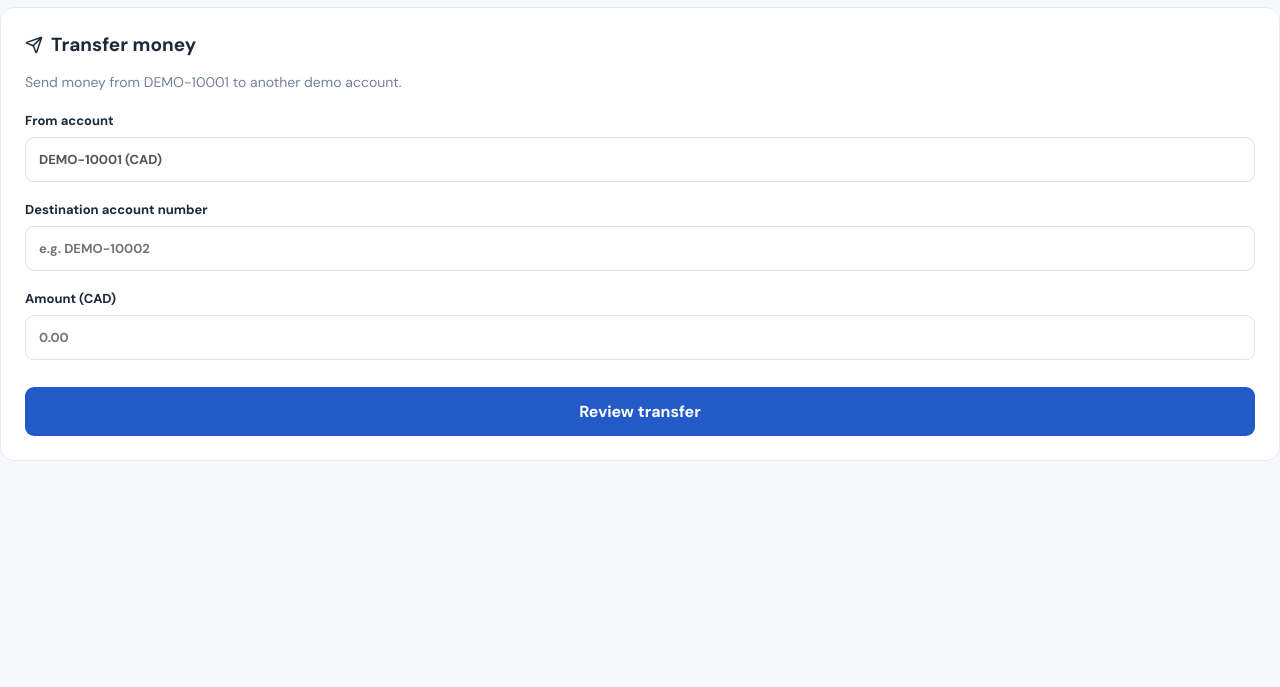
Test: TransferForm › retries a failed transfer with the same request key, so it cannot pay twice
Step 1. Type "DEMO-10002" into the field labelled "Destination account number" → (640, 249), box [25,226,1255,271]
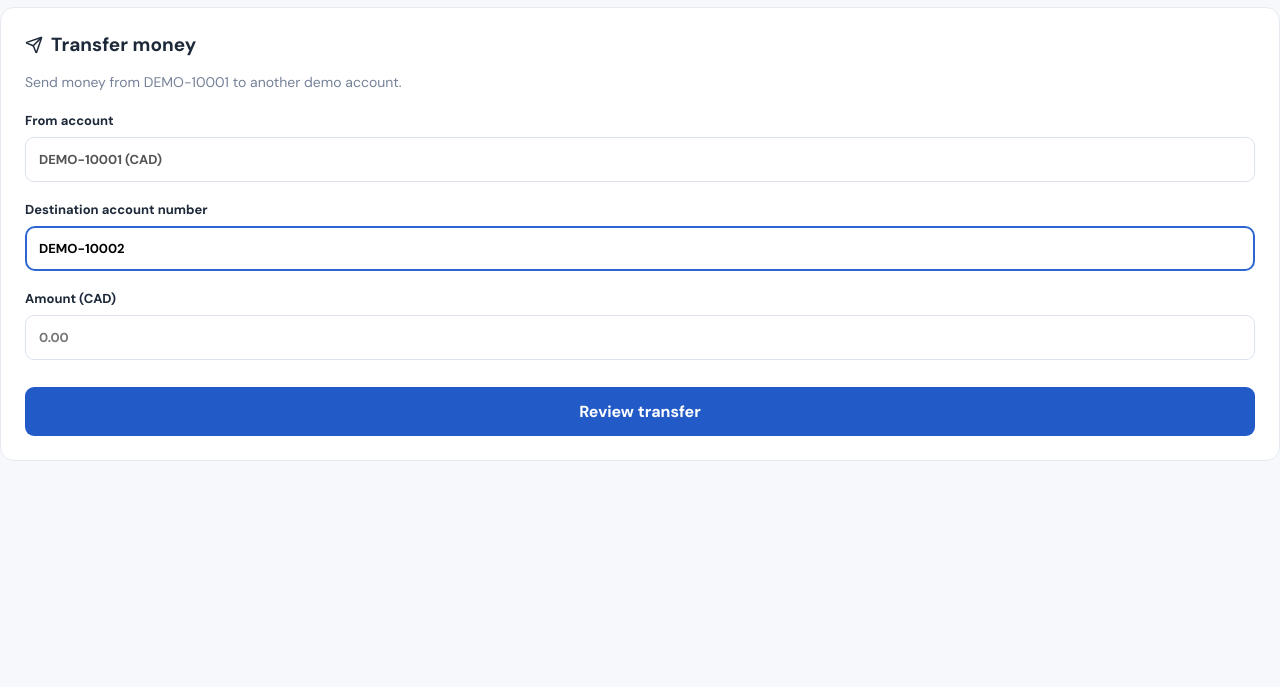
Step 2. Type "25" into the number field labelled "Amount (CAD)" → (640, 338), box [25,315,1255,360]
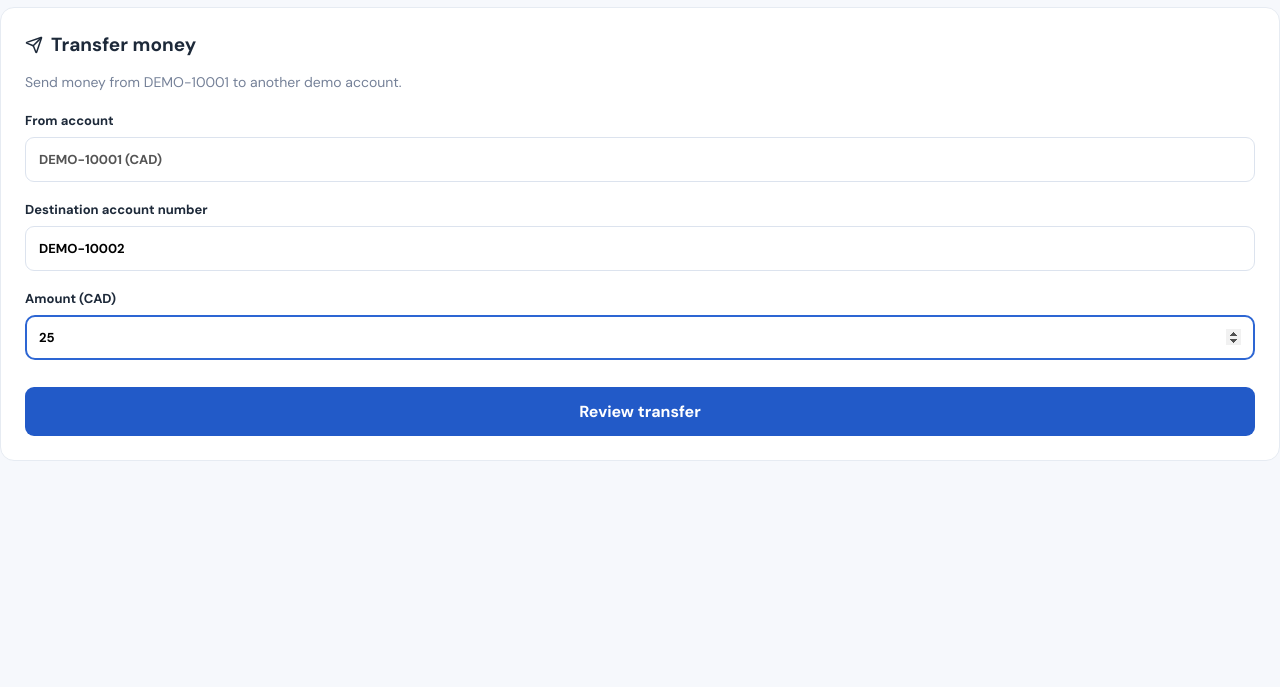
Step 3. Click the button "Review transfer" → (640, 412), box [25,387,1255,436]
(page scrolled)
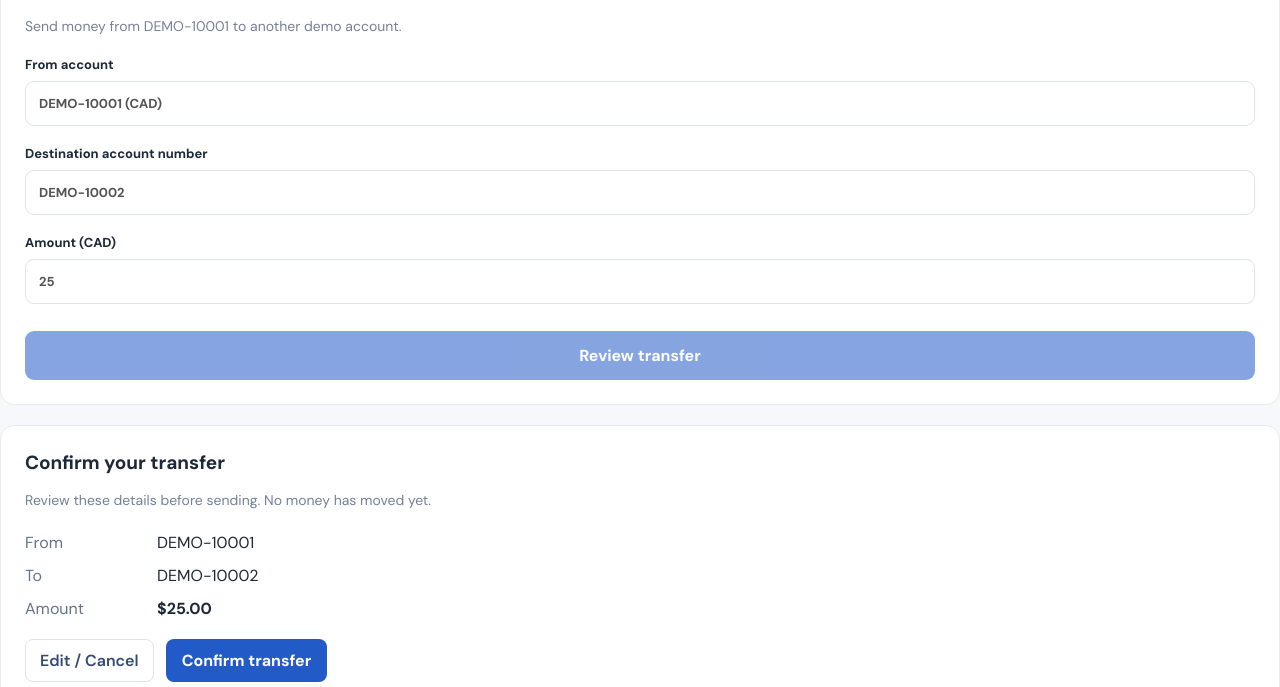
Step 4. Click the button "Confirm transfer" → (246, 660), box [166,639,327,682]
(page scrolled)
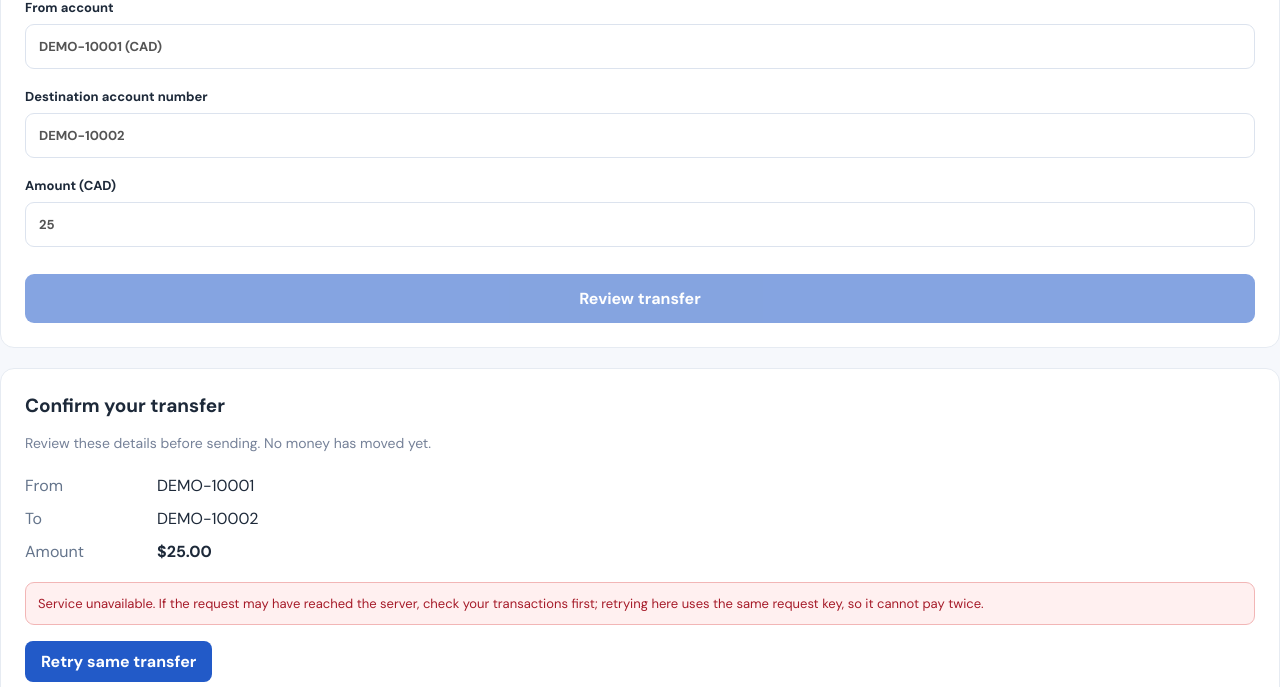
Expected: the text "Service unavailable" is shown, [38,595,984,612]
Step 5. Click the button "Retry same transfer" → (119, 661), box [25,641,212,682]
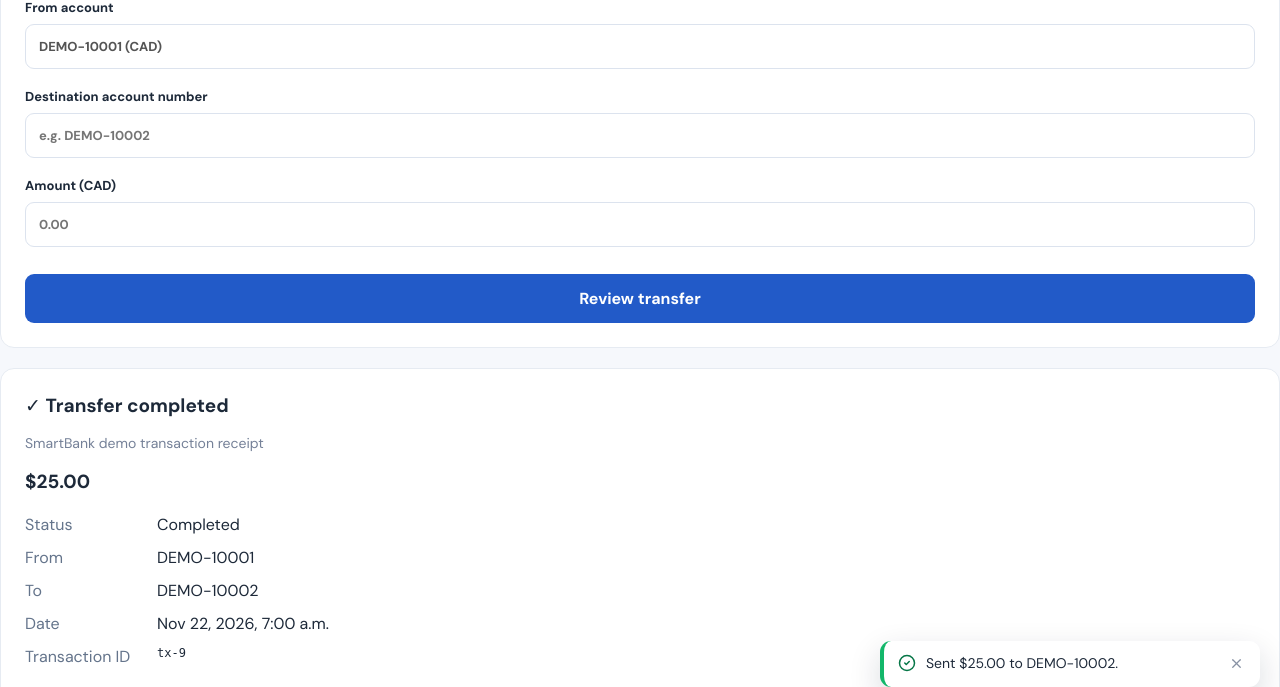
Expected: the heading "✓ Transfer completed" is shown, [25,393,229,418]
Expected: the text "Sent $25.00 to DEMO-10002." is shown, [926,654,1118,672]
